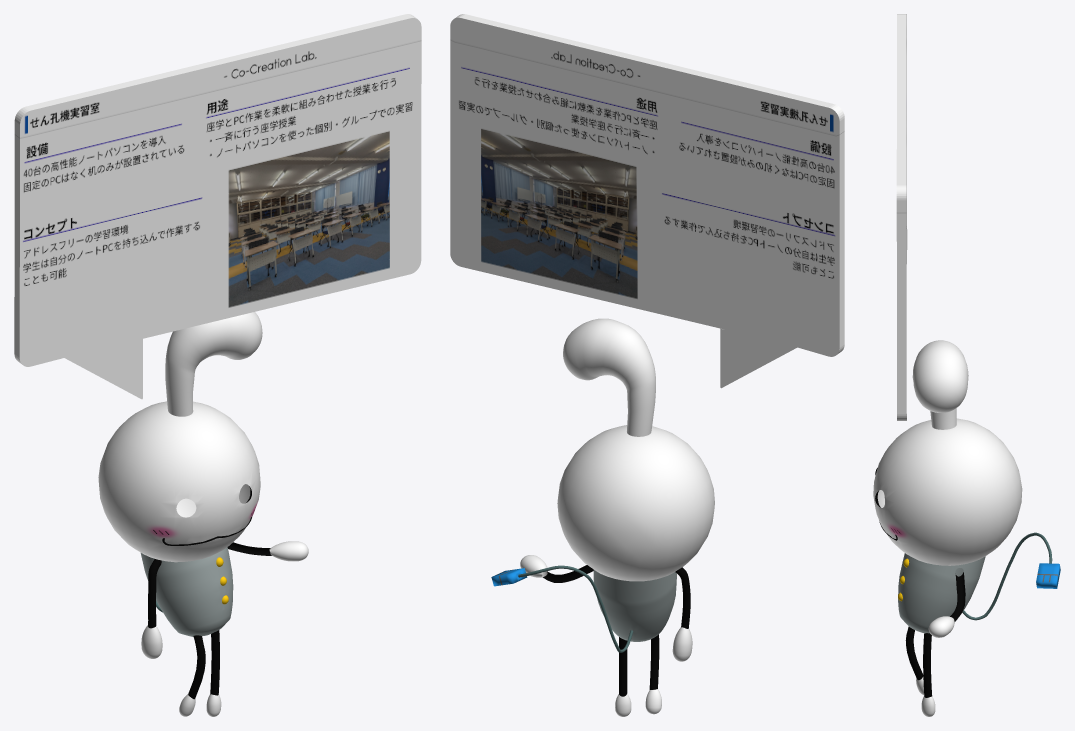
The model's file is co_creation.glb.
The picture shows the model from 3 angles, left to right: view 1: azimuth 30°, elevation 25°; view 2: azimuth 150°, elevation 25°; view 3: azimuth 270°, elevation 25°; orthographic projection. The views are drawn at different scales.
Parts seen in each view (by area): view 1: 吹き出し１, 頭, 胴, 触覚, 吹き出し２, 左拳; view 2: 吹き出し１, 頭, 触覚, 胴, 吹き出し２, 尻尾; view 3: 頭, 吹き出し１, 胴, 触覚, マウス, 尻尾, 左脚, 左拳, 右脚, 左腕.
Boxes of the visible parts, x1=… form: 吹き出し１: x1=14, y1=14, x2=421, y2=366; 頭: x1=98, y1=401, x2=260, y2=562; 胴: x1=140, y1=547, x2=233, y2=636; 触覚: x1=165, y1=312, x2=262, y2=416; 吹き出し２: x1=64, y1=339, x2=142, y2=399; 左拳: x1=269, y1=541, x2=308, y2=561; 吹き出し１: x1=450, y1=14, x2=844, y2=356; 頭: x1=557, y1=425, x2=714, y2=581; 触覚: x1=563, y1=318, x2=655, y2=436; 胴: x1=593, y1=570, x2=676, y2=641; 吹き出し２: x1=720, y1=328, x2=797, y2=388; 尻尾: x1=518, y1=565, x2=633, y2=652; 頭: x1=873, y1=418, x2=1022, y2=565; 吹き出し１: x1=896, y1=14, x2=907, y2=420; 胴: x1=898, y1=553, x2=985, y2=633; 触覚: x1=912, y1=340, x2=968, y2=429; マウス: x1=1036, y1=563, x2=1060, y2=588; 尻尾: x1=962, y1=532, x2=1052, y2=620; 左脚: x1=923, y1=633, x2=932, y2=697; 左拳: x1=928, y1=616, x2=954, y2=637; 右脚: x1=905, y1=626, x2=923, y2=680; 左腕: x1=950, y1=572, x2=965, y2=621.
Size of the model in its own units: 14.43 by 22.91 by 6.36.
12 materials, 2 textured.
